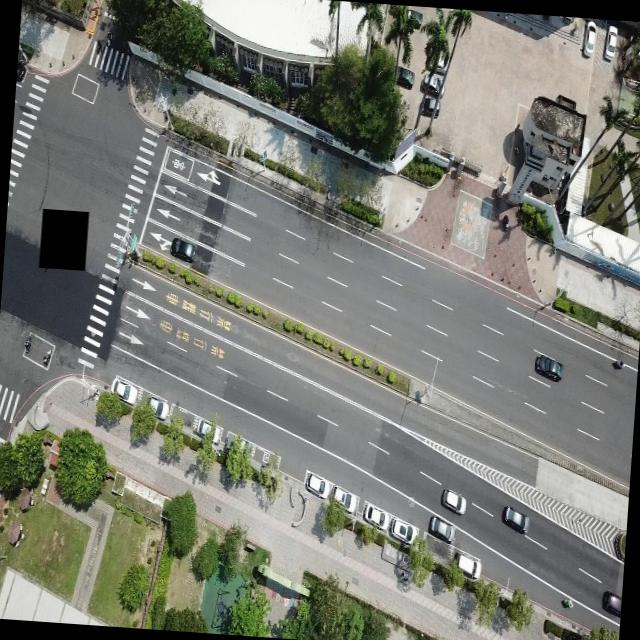bike: (500, 213, 510, 233), (560, 596, 574, 610), (24, 332, 32, 354), (612, 359, 626, 371), (42, 348, 51, 363)
car: (358, 498, 388, 530), (108, 377, 140, 406), (425, 512, 455, 542), (534, 354, 565, 382), (455, 552, 484, 581), (388, 516, 418, 544), (330, 485, 358, 515), (503, 505, 532, 533), (303, 469, 330, 498), (170, 235, 198, 262), (442, 489, 469, 516), (144, 394, 170, 422), (423, 49, 451, 75), (602, 589, 622, 618), (422, 70, 446, 94), (582, 18, 596, 56), (418, 95, 440, 119), (404, 6, 424, 31), (605, 26, 619, 61), (194, 416, 216, 438), (396, 66, 414, 88), (16, 59, 27, 82)
